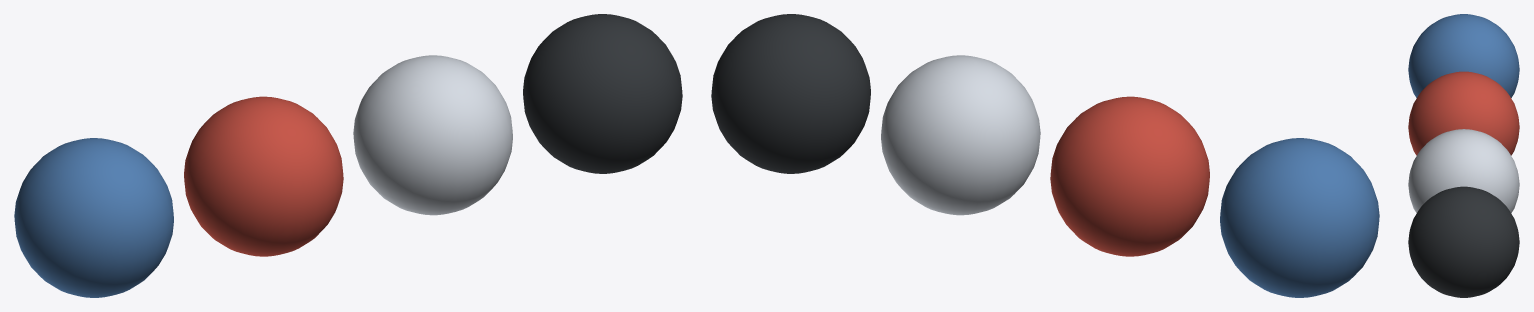
The model's file is known-materials.glb.
The picture shows the model from 3 angles, left to right: view 1: azimuth 30°, elevation 25°; view 2: azimuth 150°, elevation 25°; view 3: azimuth 270°, elevation 25°; orthographic projection. The views are drawn at different scales.
Visible parts, largest first — view 1: dielectric-polymer, rough-rubber, painted-metal, bare-metal; view 2: dielectric-polymer, rough-rubber, painted-metal, bare-metal; view 3: rough-rubber, dielectric-polymer, painted-metal, bare-metal.
Part boxes in pixels (box(x1,y1,x2,y2)): dielectric-polymer: box(14, 138, 173, 297); rough-rubber: box(523, 14, 682, 173); painted-metal: box(184, 96, 343, 256); bare-metal: box(353, 55, 512, 215); dielectric-polymer: box(1220, 138, 1379, 297); rough-rubber: box(711, 14, 870, 173); painted-metal: box(1050, 96, 1209, 256); bare-metal: box(881, 55, 1040, 215); rough-rubber: box(1408, 186, 1519, 297); dielectric-polymer: box(1408, 14, 1519, 97); painted-metal: box(1408, 71, 1519, 155); bare-metal: box(1408, 129, 1519, 213).
Size of the model in its own units: 4.2 by 0.9 by 0.9.
